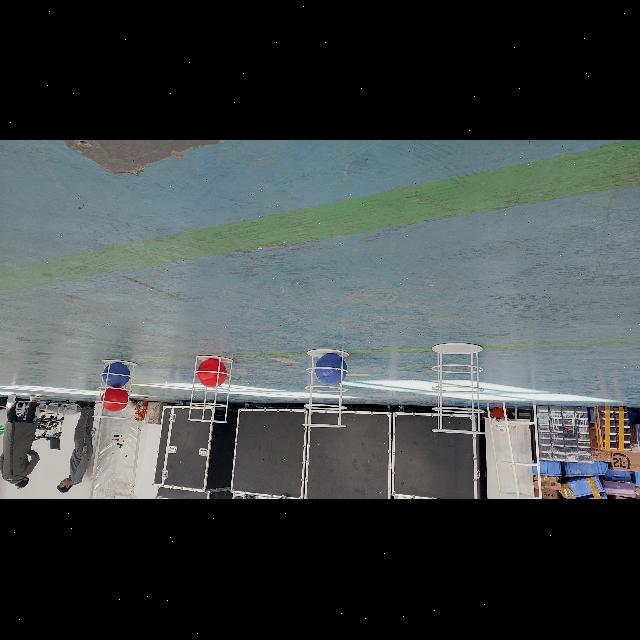B: (312, 354, 348, 386), (100, 363, 130, 389)
R: (196, 360, 228, 388), (100, 389, 128, 413)
S: (426, 342, 488, 434), (302, 347, 356, 429), (187, 354, 237, 424), (94, 358, 136, 424)
